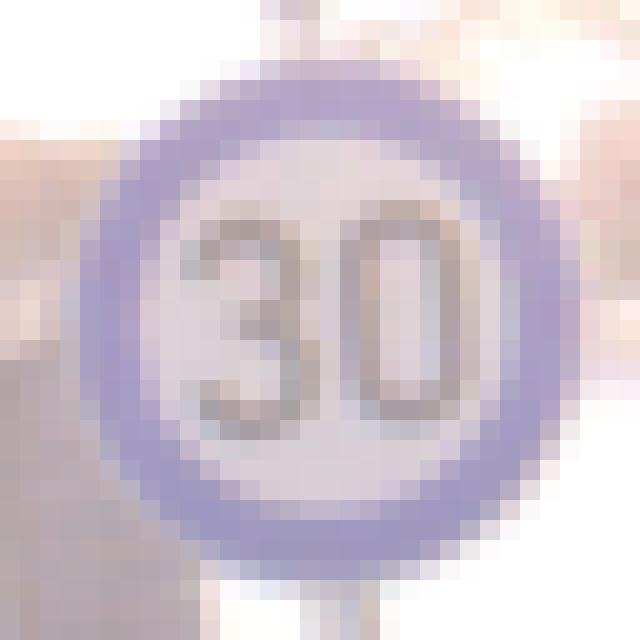SPEED LIMIT 30: (89, 69, 586, 579)
